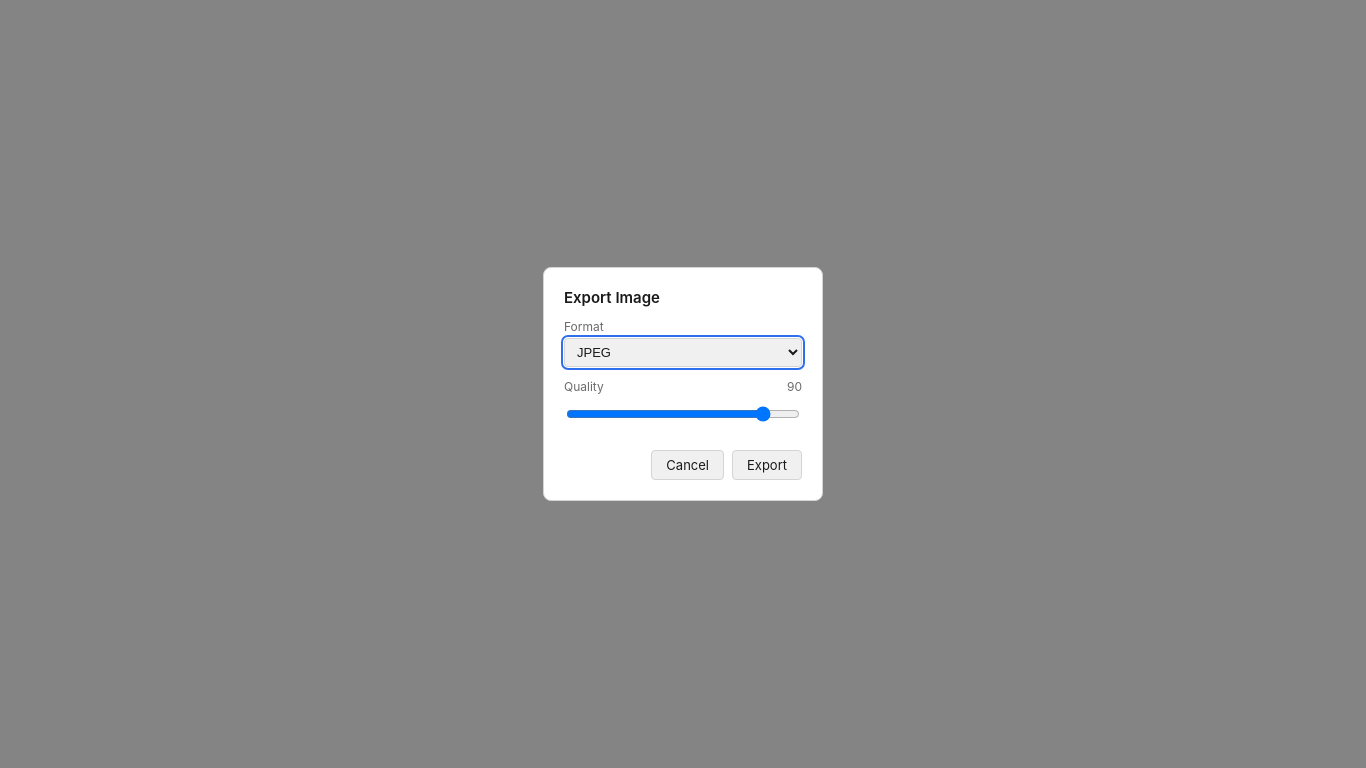
Test: ExportDialog › switching to PNG hides quality and shows a transparency checkbox, checked by default
Step 1. Select "PNG" in the dropdown labelled "Format" → coordinates (683, 352), box [564,338,802,367]
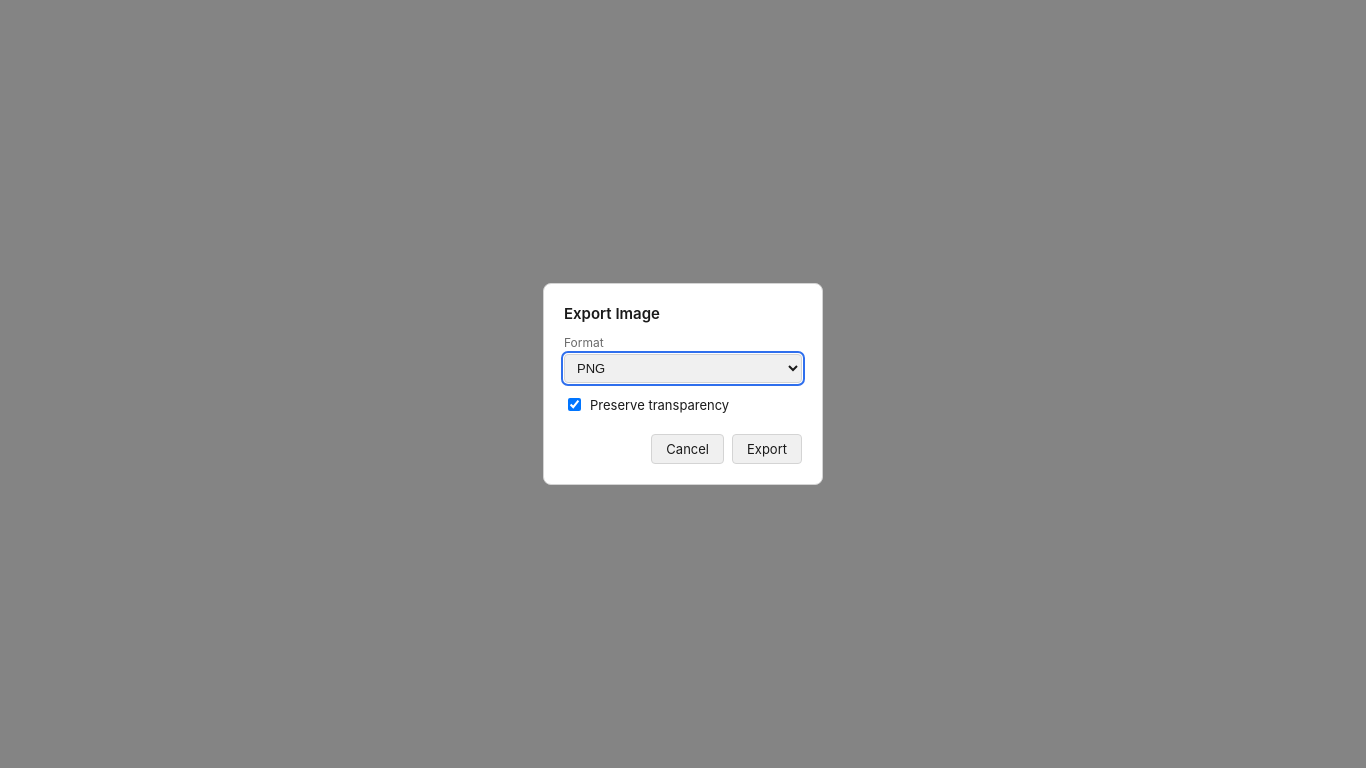
Expected: the label labelled "Quality" is gone
Expected: the checkbox labelled "Preserve transparency" is checked, [568,398,581,411]
